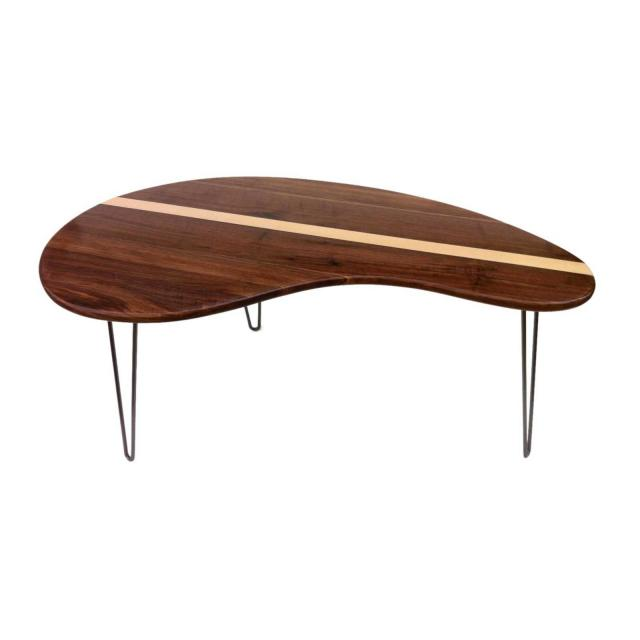table: (26, 163, 603, 505)
